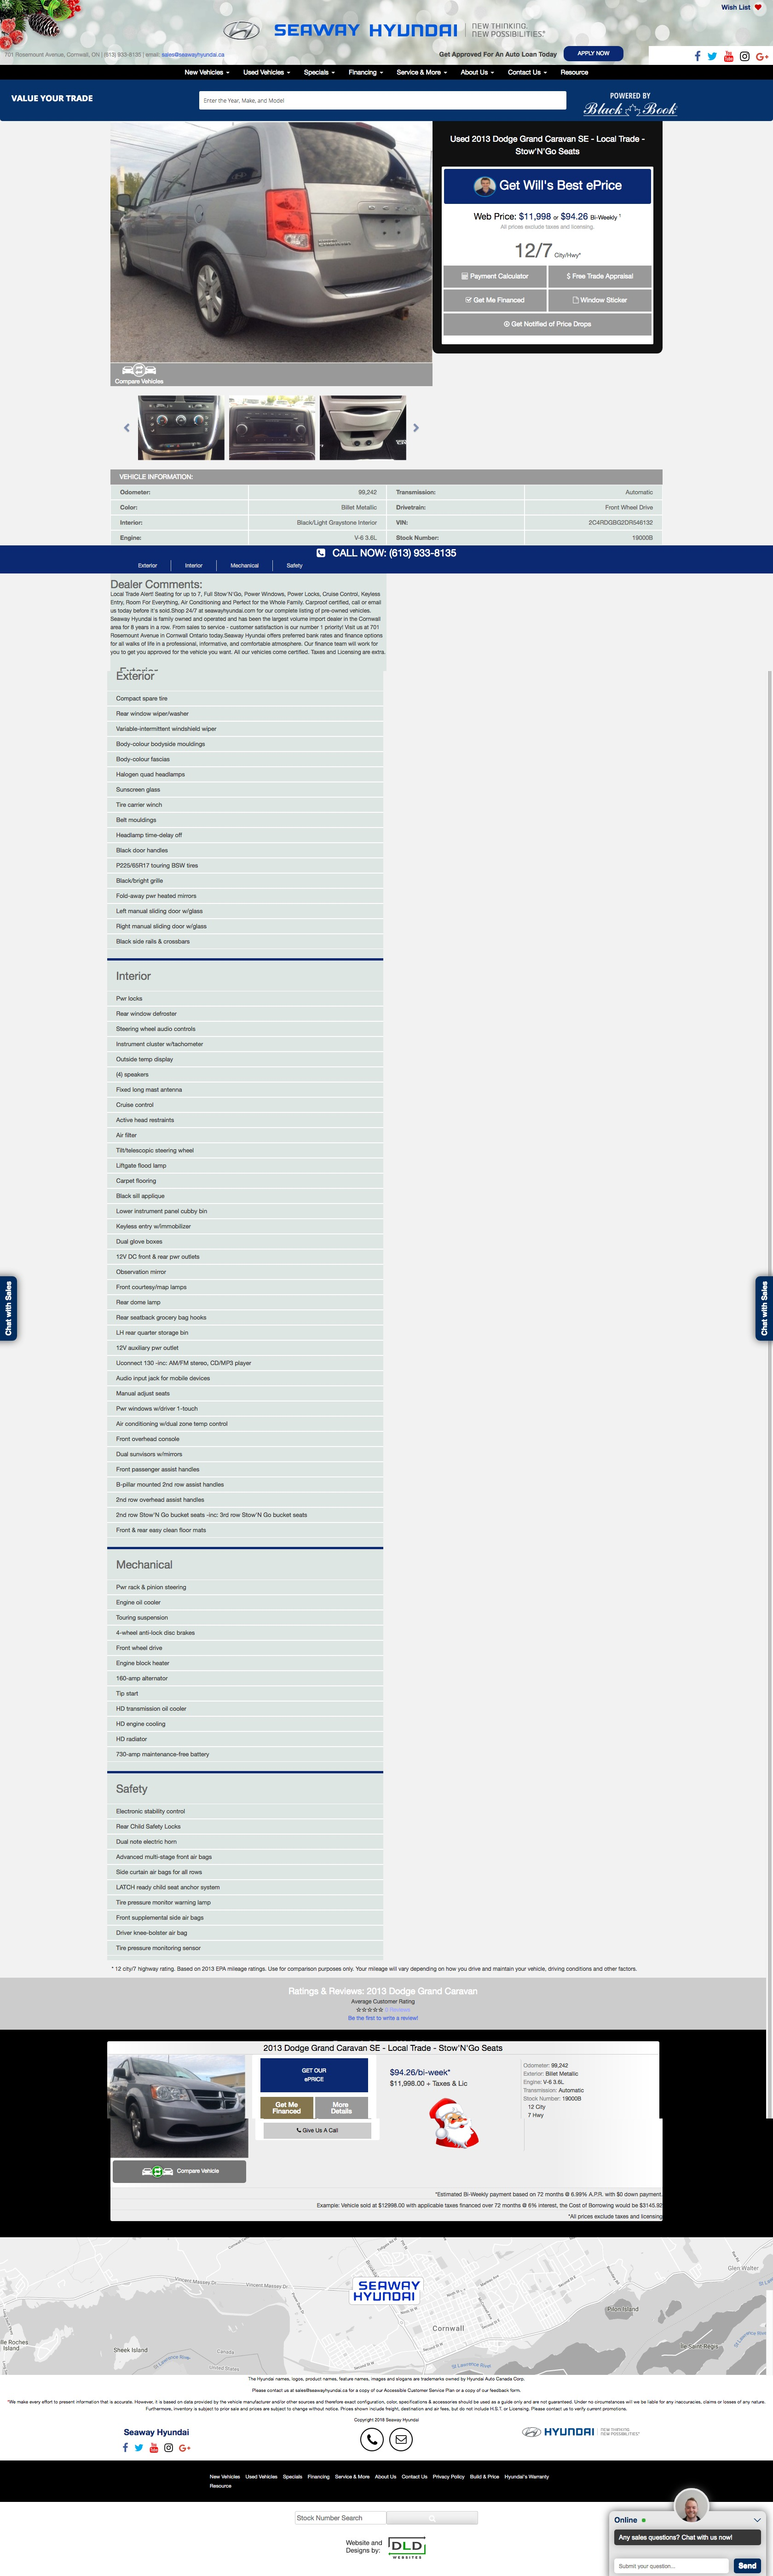car: (414, 424, 420, 432)
